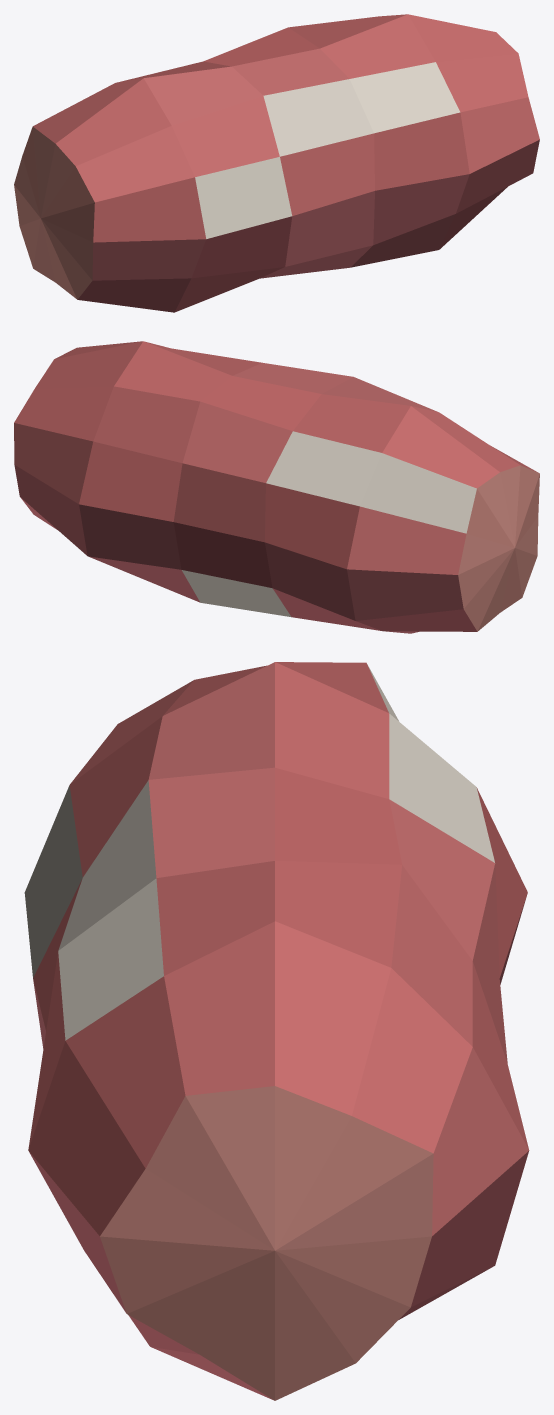
Rendered from Tenderloin.glb.
The picture shows the model from 3 angles, top to bottom: view 1: azimuth 30°, elevation 25°; view 2: azimuth 150°, elevation 25°; view 3: azimuth 270°, elevation 25°; orthographic projection. The views are drawn at different scales.
Visible parts, largest first — view 1: Tenderloin; view 2: Tenderloin; view 3: Tenderloin.
Boxes of the visible parts, box(x1,y1,x2,y2) form: Tenderloin: box(14, 14, 539, 312); Tenderloin: box(14, 341, 539, 633); Tenderloin: box(24, 662, 529, 1400).
Bounding box in the file's own units: 0.32 × 0.1487 × 0.1488.
